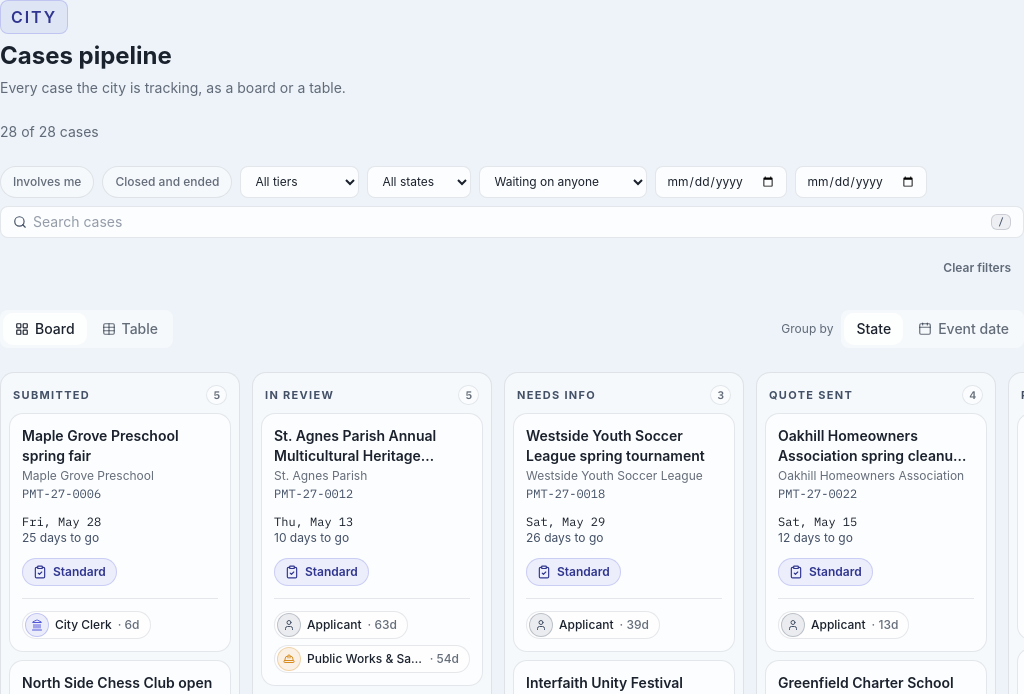
it: Cases pipeline › the search box keeps what is typed while the URL lags, filters at once, and writes the URL after a pause
The width and height of the screenshot is (1024, 694).
In the search field labelled "Search cases": {"x": 509, "y": 222} [27,206,991,238], type "jazz"
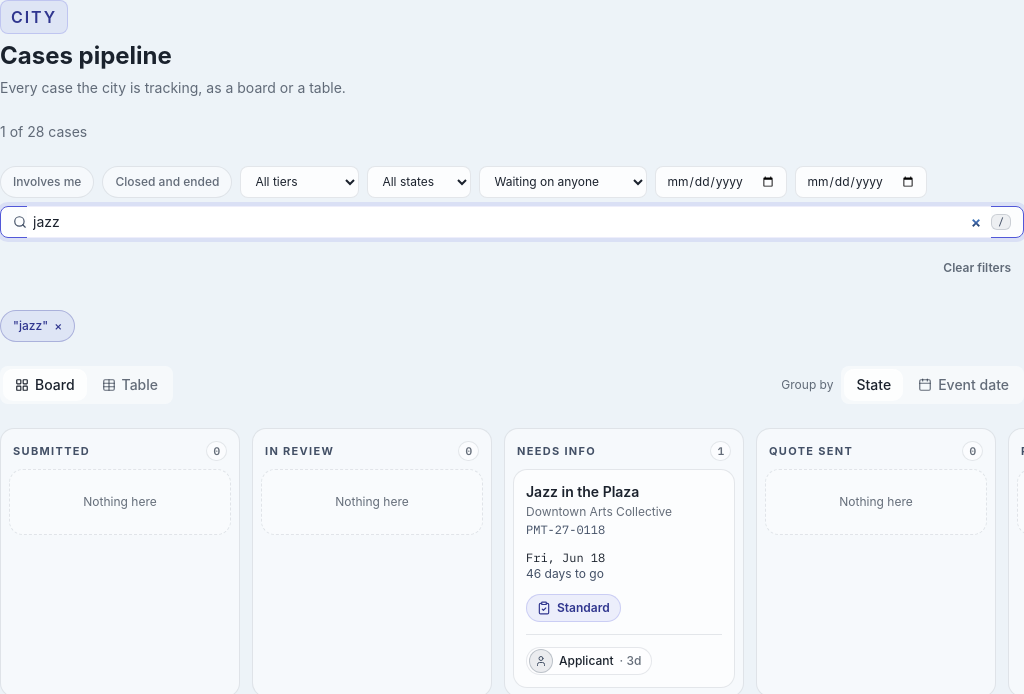
expect the text "Jazz in the Plaza" is shown: met, box [526,483,639,500]
expect the text "1 of 28 cases" is shown: met, box [0,123,87,140]
